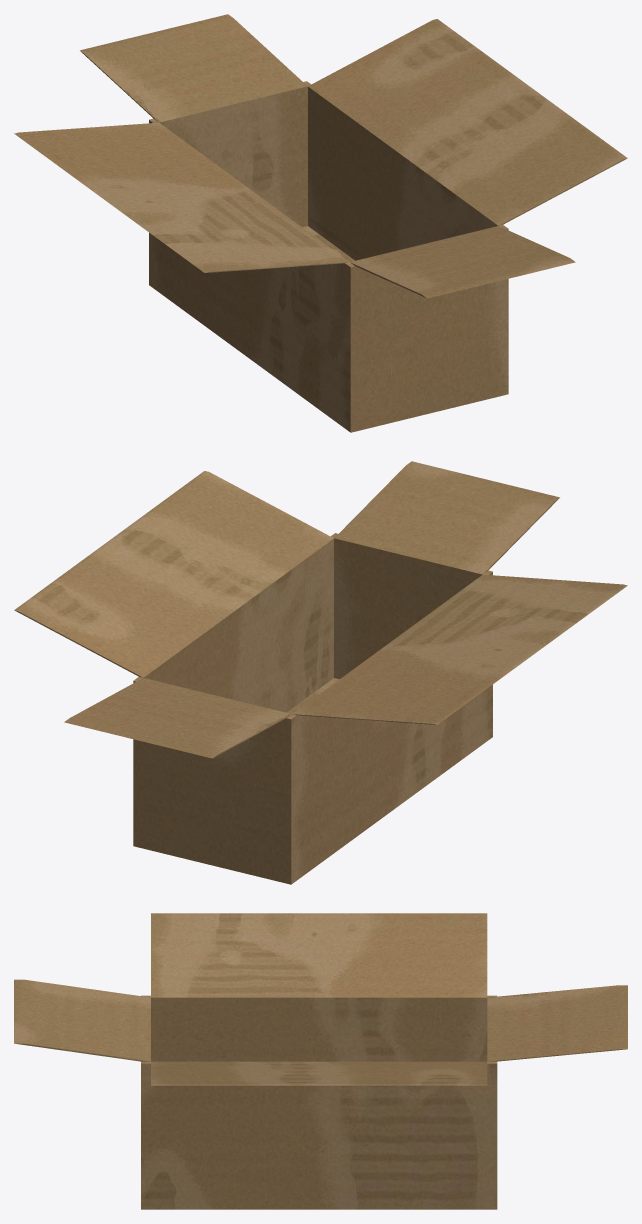
3 renders of one model, top to bottom at view 1: azimuth 30°, elevation 25°; view 2: azimuth 150°, elevation 25°; view 3: azimuth 270°, elevation 25°, orthographic. The views are drawn at different scales.
Parts seen in each view (by area): view 1: box; view 2: box; view 3: box.
Boxes of the visible parts, x1,y1,x2,y2 form: box: (14, 14, 627, 432); box: (14, 461, 627, 884); box: (14, 913, 627, 1209).
Size of the model in its own units: 123 by 55.75 by 175.
Materials: 1 (1 with a texture image).
